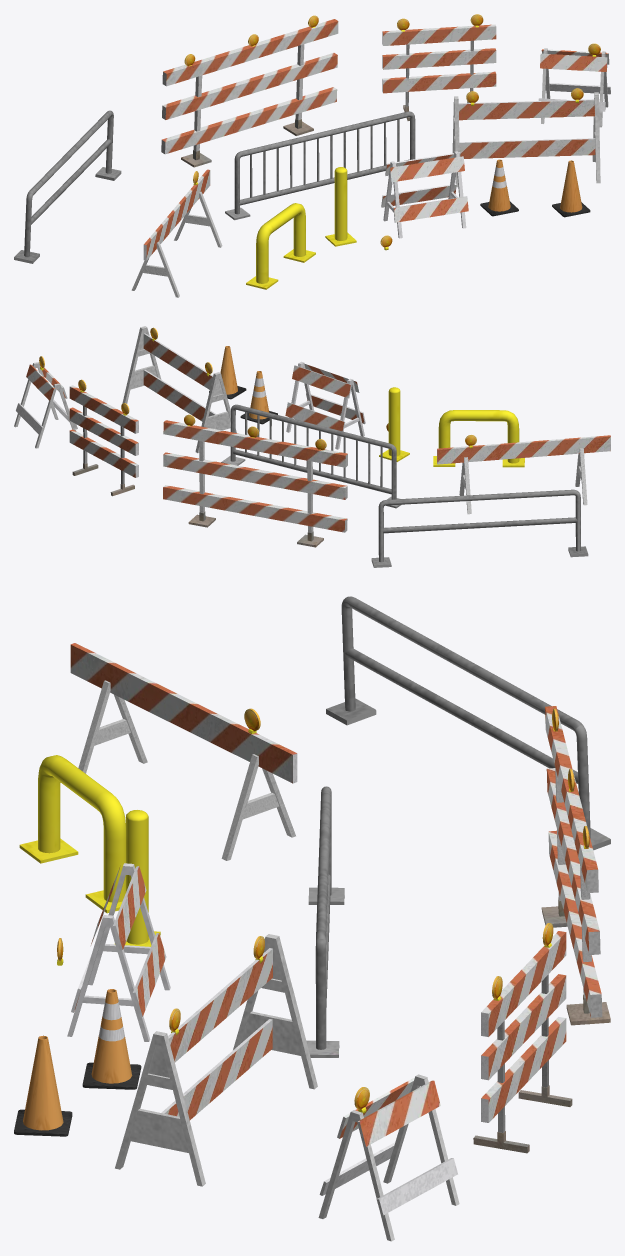
Rendered from pBarricade.glb.
3 renders of one model, top to bottom at view 1: azimuth 30°, elevation 25°; view 2: azimuth 150°, elevation 25°; view 3: azimuth 270°, elevation 25°, orthographic. The views are drawn at different scales.
Visible parts, largest first — view 1: A_Barricade1S_lambert1_0; view 2: A_Barricade1S_lambert1_0; view 3: A_Barricade1S_lambert1_0.
Part boxes in pixels (x1,y1,x2,y2): A_Barricade1S_lambert1_0: [14, 14, 610, 297]; A_Barricade1S_lambert1_0: [14, 326, 610, 567]; A_Barricade1S_lambert1_0: [14, 596, 610, 1241].
Size of the model in its own units: 9.1 by 1.6 by 4.28.
1 material, 1 textured.
